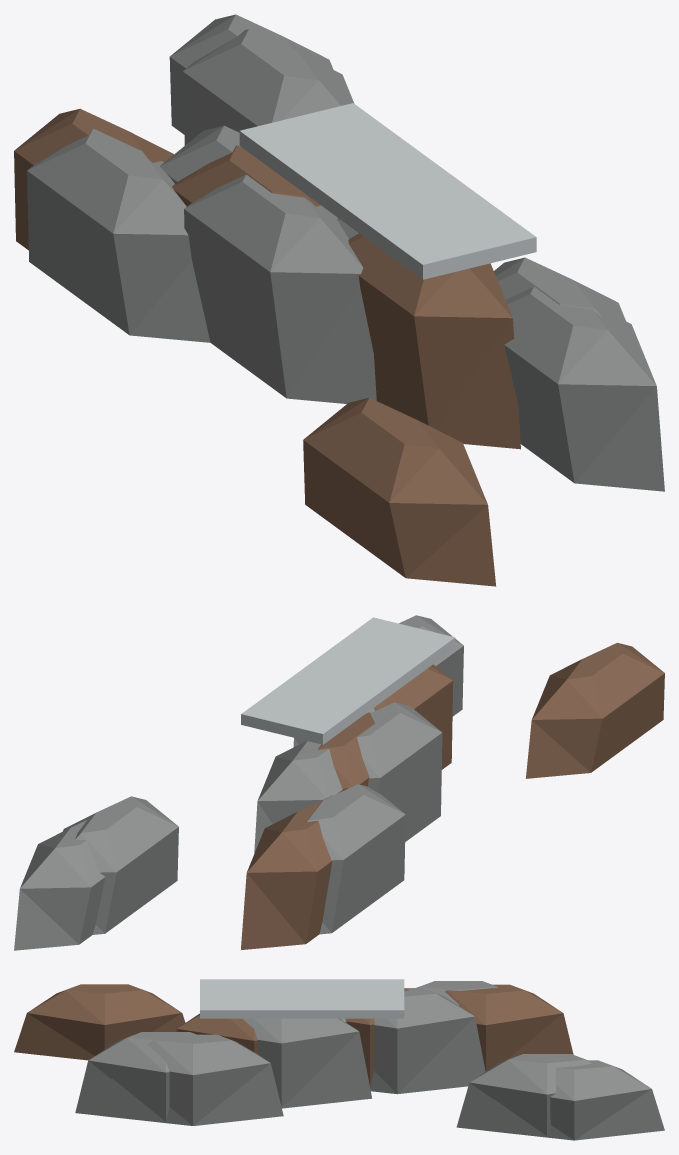
Rendered from rubble_heap.glb.
3 renders of one model, top to bottom at view 1: azimuth 30°, elevation 25°; view 2: azimuth 150°, elevation 25°; view 3: azimuth 270°, elevation 25°, orthographic. The views are drawn at different scales.
Visible parts, largest first — view 1: rubble_heap; view 2: rubble_heap; view 3: rubble_heap.
Boxes of the visible parts, left/top/right/bottom form: rubble_heap: left=14, top=14, right=664, bottom=586; rubble_heap: left=14, top=615, right=664, bottom=950; rubble_heap: left=14, top=979, right=664, bottom=1140.
Size of the model in its own units: 1.92 by 0.8 by 4.8.
